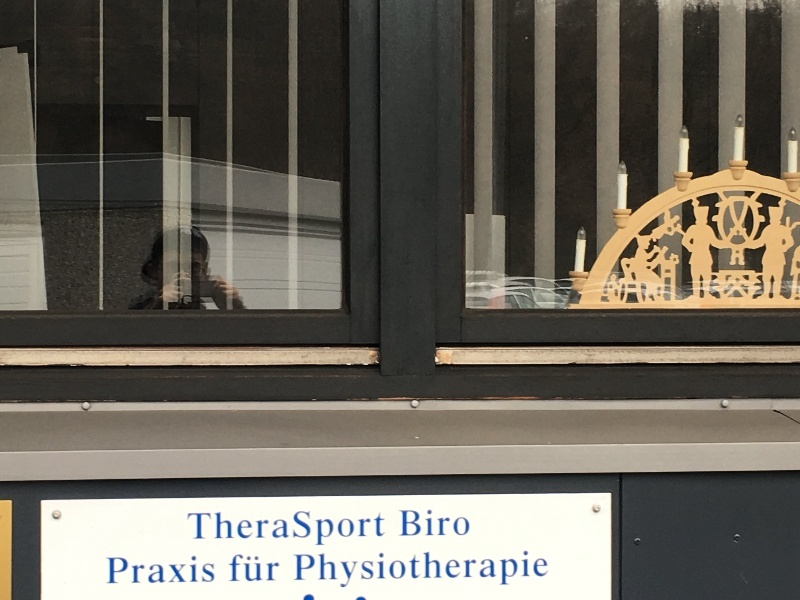text: (305, 551, 320, 588), (321, 551, 336, 588), (337, 551, 352, 588), (353, 551, 368, 588), (369, 551, 384, 588), (385, 551, 400, 588), (401, 551, 416, 588), (417, 551, 432, 588), (433, 551, 448, 588), (449, 551, 464, 588), (465, 551, 480, 588), (481, 551, 496, 588), (497, 551, 512, 588), (513, 551, 528, 588), (529, 551, 544, 588), (193, 511, 208, 546), (209, 511, 224, 546), (225, 511, 240, 546), (241, 511, 256, 546), (257, 511, 272, 546), (273, 511, 288, 546), (289, 511, 304, 546), (305, 511, 320, 546), (321, 511, 336, 546), (337, 511, 352, 546), (353, 511, 368, 546), (369, 511, 384, 546), (113, 555, 128, 584), (129, 555, 144, 584), (145, 555, 160, 584), (161, 555, 176, 584), (177, 555, 192, 584), (193, 555, 208, 584), (241, 555, 256, 582), (257, 555, 272, 582), (401, 511, 416, 536), (417, 511, 432, 536), (433, 511, 448, 536), (449, 511, 464, 536), (297, 551, 304, 588), (231, 555, 240, 582), (273, 555, 279, 582), (107, 555, 112, 584), (209, 555, 214, 584), (188, 511, 192, 546), (465, 511, 469, 536), (545, 551, 547, 588)
